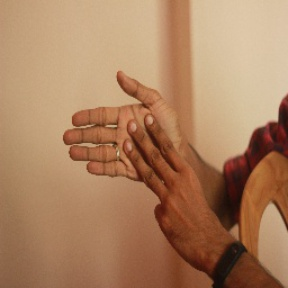M: (61, 68, 193, 212)
